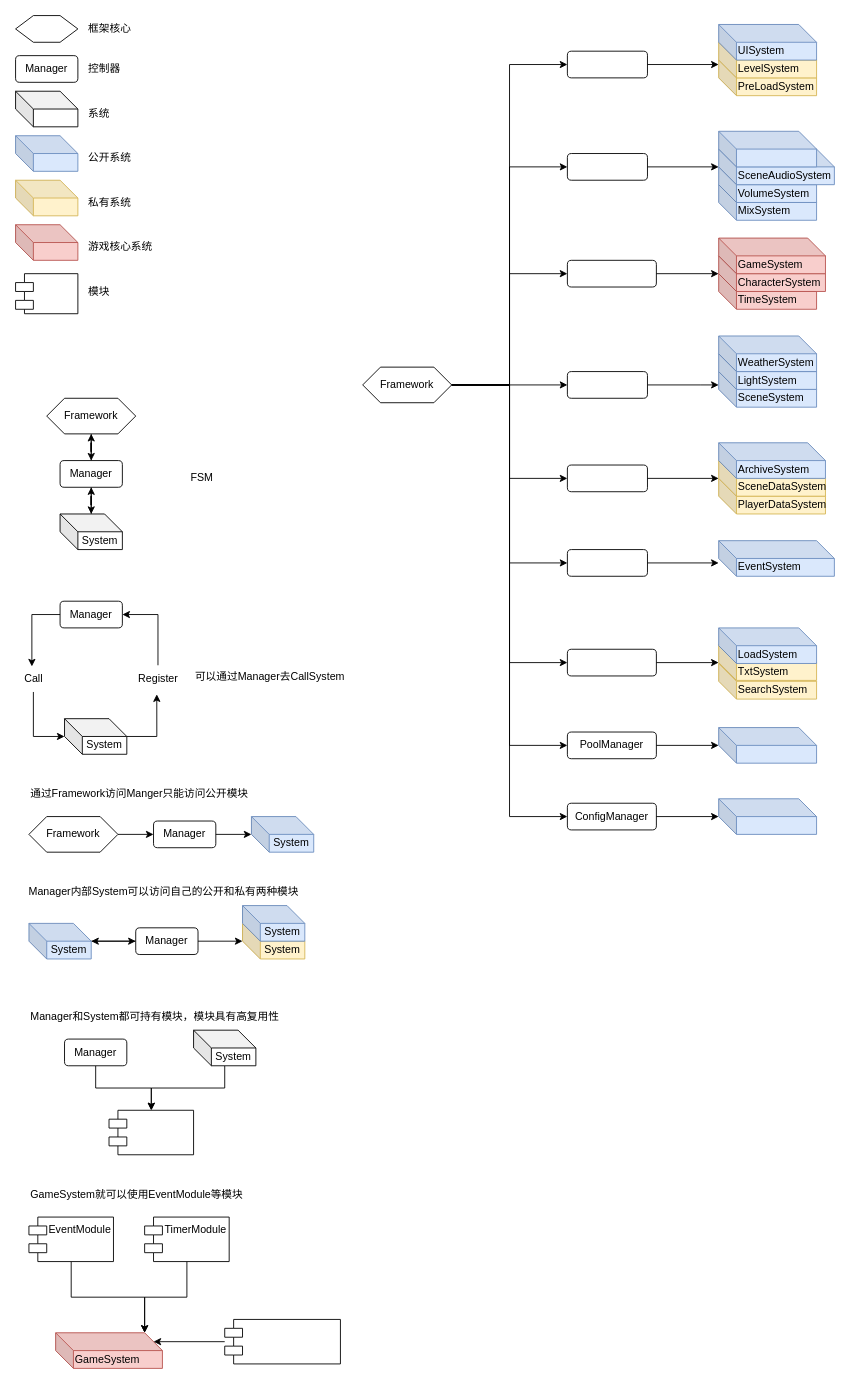
The diagram is 850 pixels wide and 1384 high, and some of its shapes have lost their labels. The centre of each missing label's shape, as x and y in pixels:
"ArchiveManager" belongs at point (606, 478).
"AssetsManager" belongs at point (611, 662).
"AudioManager" belongs at point (606, 166).
"BGMSystem" belongs at point (767, 148).
"ConfigSystem" belongs at point (767, 816).
"EventManager" belongs at point (606, 562).
"GameManager" belongs at point (611, 273).
"Module" belongs at point (151, 1132).
"PoolSystem" belongs at point (767, 745).
"SceneManager" belongs at point (606, 384).
"UIManager" belongs at point (606, 64).
"YooAssetModule" belongs at point (282, 1341).
